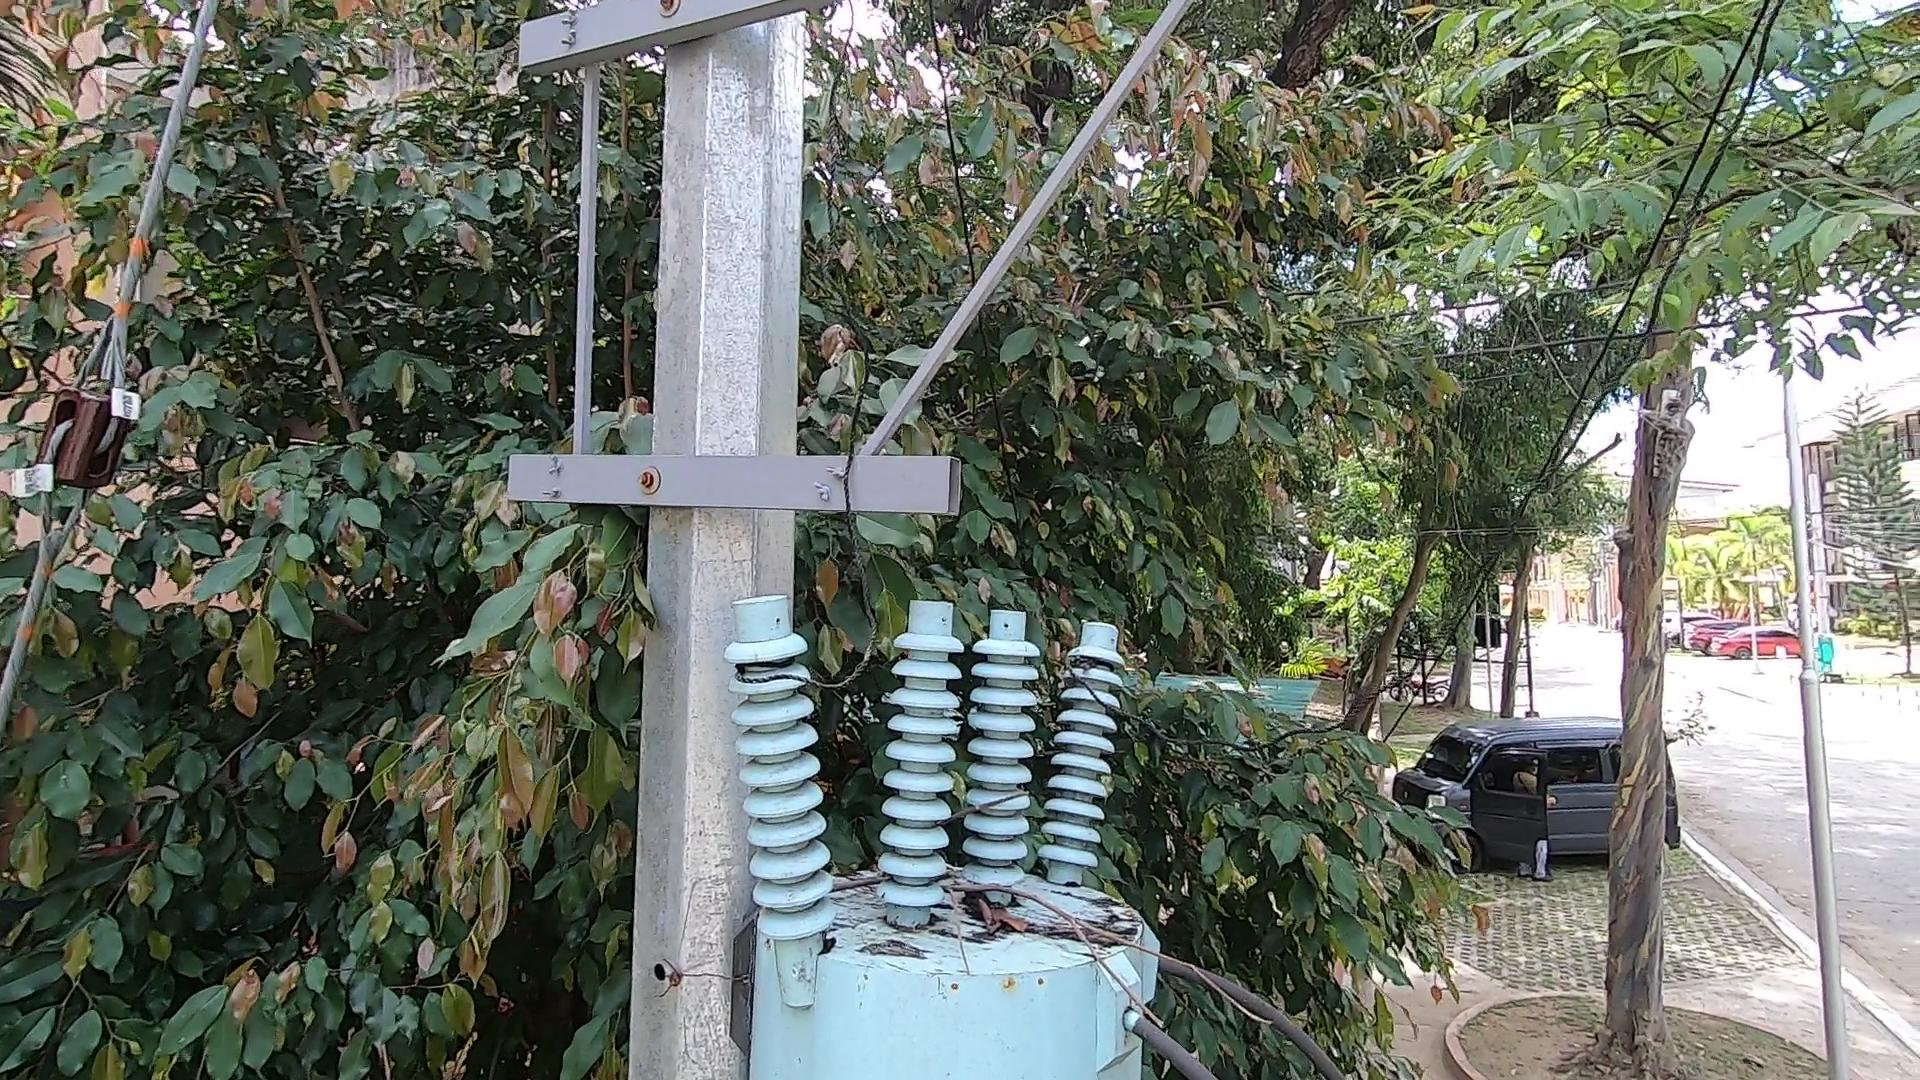leaf: (916, 864, 1047, 955)
tree branch: (827, 833, 1284, 1039)
